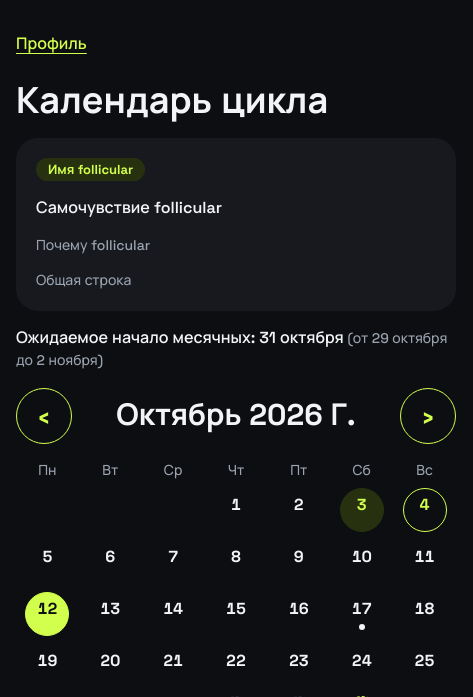
тап по дню › старое событие — только просмотр, без кнопок правки
The image size is (473, 697).
Step 1. Click the button named "Предыдущий месяц" → (44, 416), box [16, 388, 72, 444]
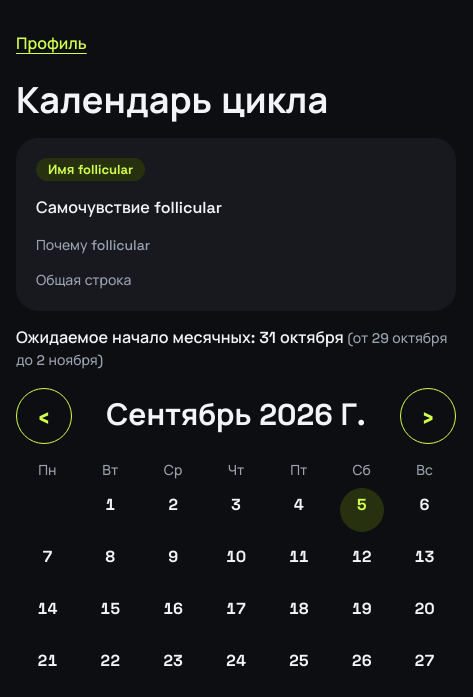
Step 2. Click the button "5" → (362, 510), box [340, 488, 384, 532]
(page scrolled)
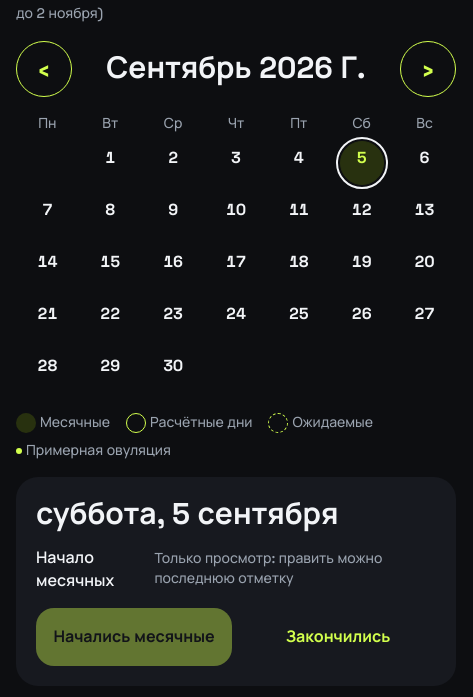
Now the list item with test id "mark-readonly" shows "Только просмотр", box [154, 549, 382, 587]
